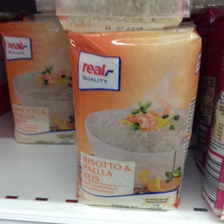rice: (67, 32, 202, 210), (1, 21, 76, 145)
